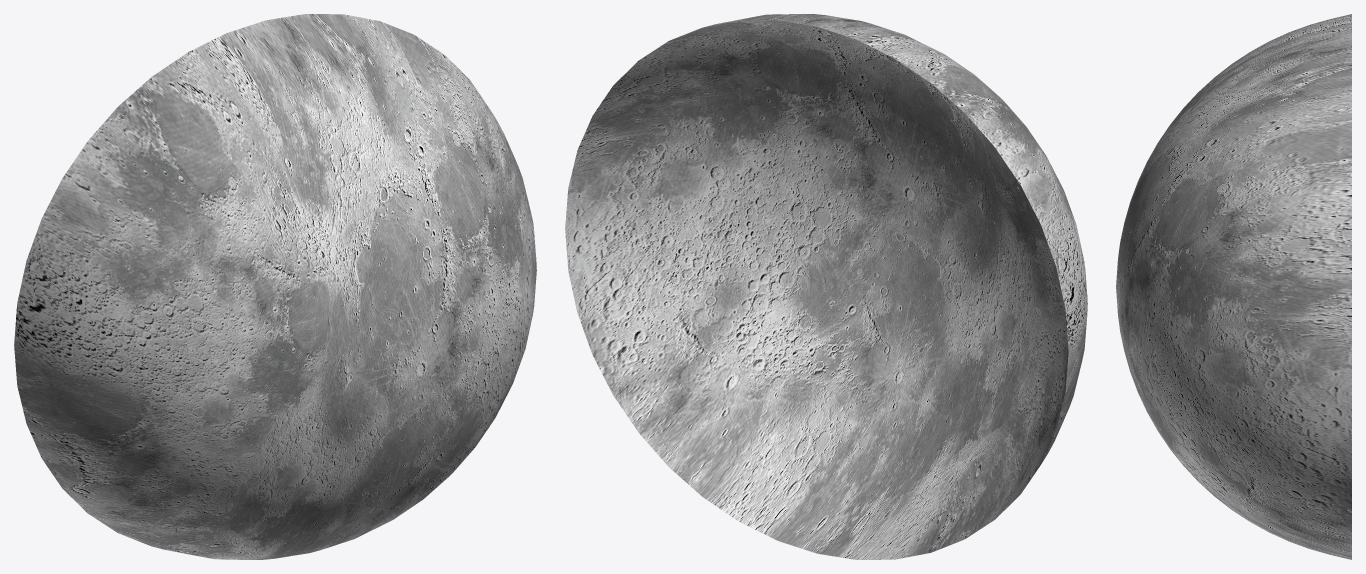
Rendered from Moon.fbx.
3 views of the same model, side by side, from view 1: azimuth 30°, elevation 25°; view 2: azimuth 150°, elevation 25°; view 3: azimuth 270°, elevation 25° (orthographic). The views are drawn at different scales.
Parts seen in each view (by area): view 1: Moon; view 2: Moon; view 3: Moon.
Boxes of the visible parts, x1,y1,x2,y2 form: Moon: (14, 14, 536, 559); Moon: (565, 14, 1087, 559); Moon: (1116, 14, 1351, 559).
Size of the model in its own units: 3902 by 3902 by 1685.
Materials: 1 (1 with a texture image).
